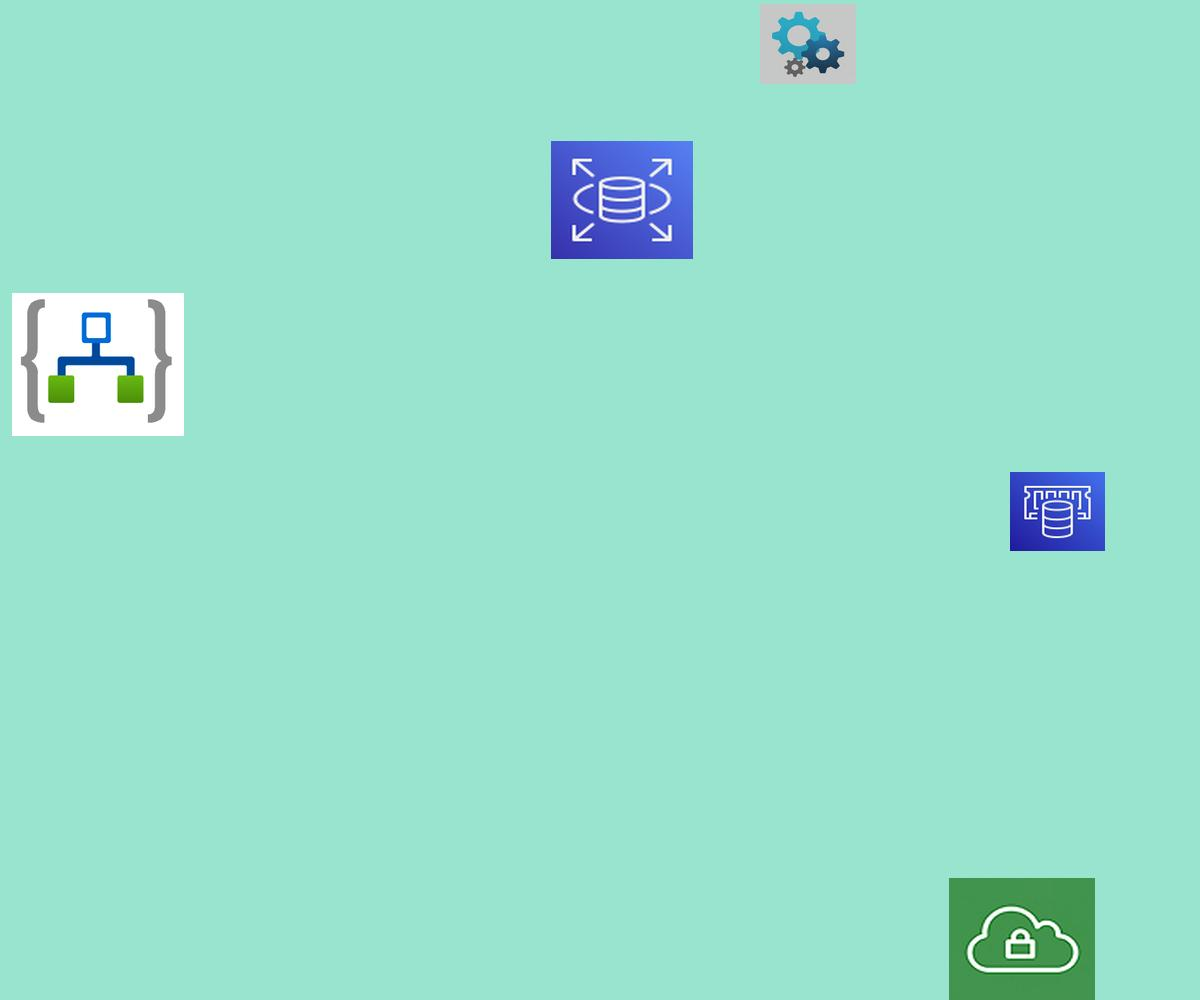AWS-ElastiCache: (1010, 472, 1105, 551)
AWS-Private_vpc: (949, 878, 1095, 1000)
AWS-RDS: (551, 141, 693, 259)
Azure_api: (760, 4, 856, 84)
Azure_integration-204-Logic-Apps: (12, 293, 184, 436)
